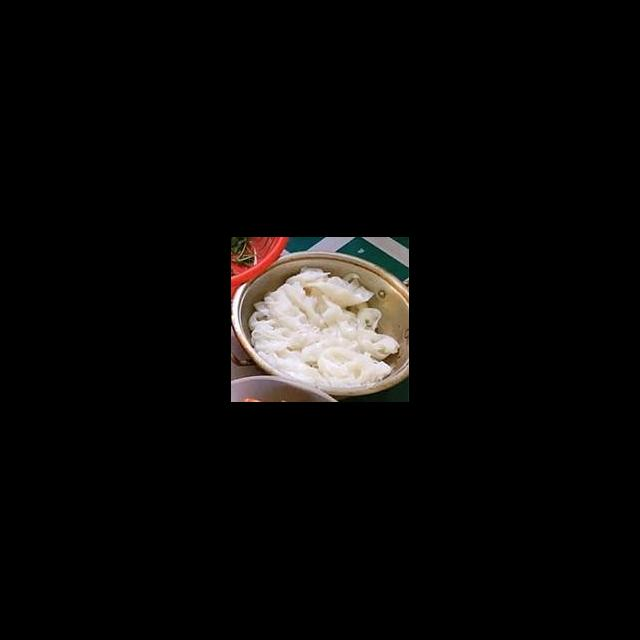mi: (246, 264, 402, 394)
